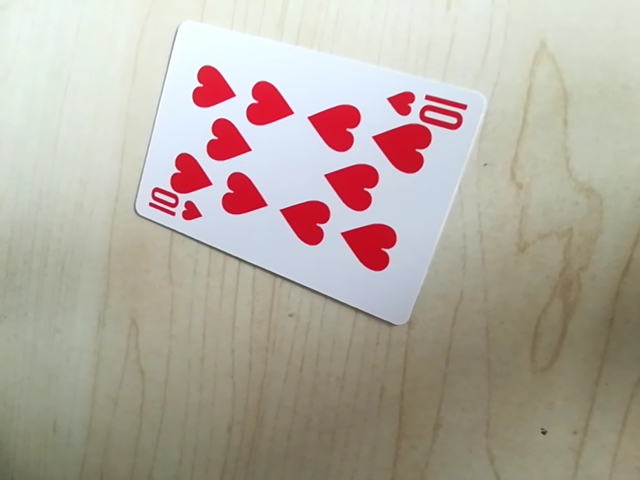hx 10: (387, 88, 471, 126), (142, 192, 203, 226)
